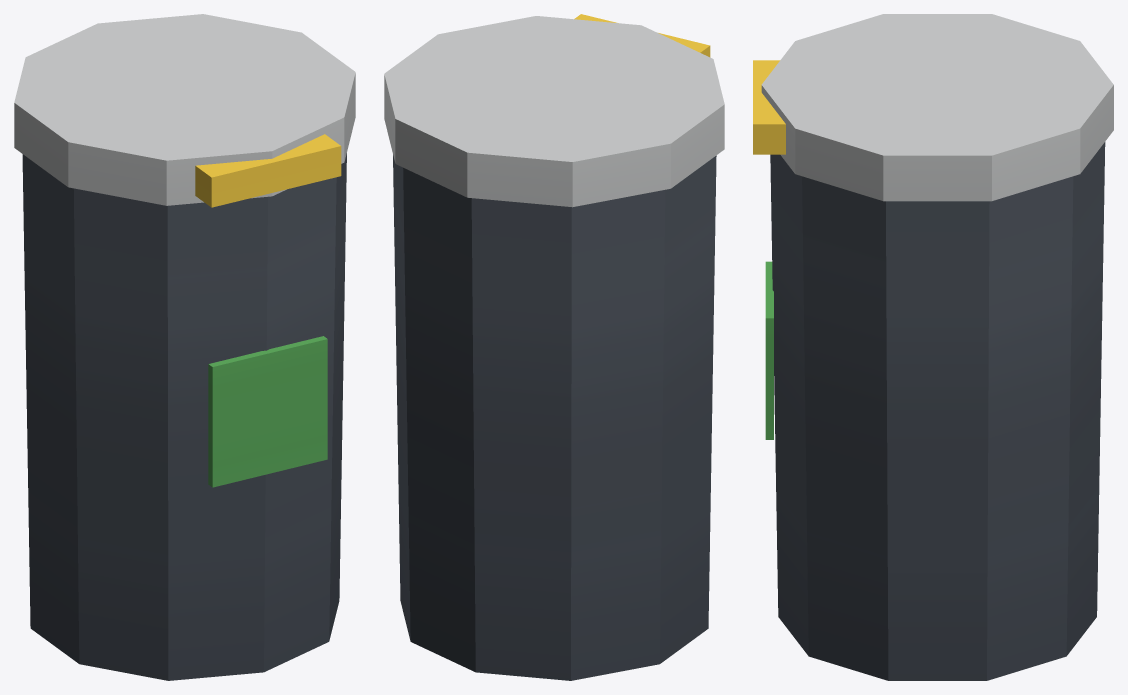
File: Lixeira.glb
3 renders of one model, left to right at view 1: azimuth 30°, elevation 25°; view 2: azimuth 150°, elevation 25°; view 3: azimuth 270°, elevation 25°, orthographic.
Visible parts, largest first — view 1: Lixeira_Malha; view 2: Lixeira_Malha; view 3: Lixeira_Malha.
Part boxes in pixels (box(x1,y1,x2,y2)): Lixeira_Malha: box(14, 14, 355, 680); Lixeira_Malha: box(384, 14, 724, 680); Lixeira_Malha: box(753, 14, 1113, 680).
Bounding box in the file's own units: 0.3994 × 0.7 × 0.43.
1 material, 1 textured.
